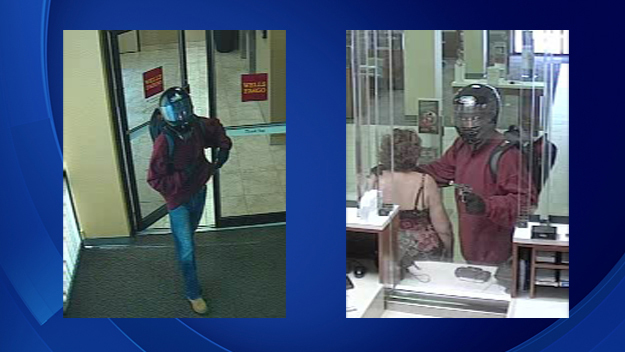helmet: (448, 75, 501, 148), (149, 85, 200, 135)
